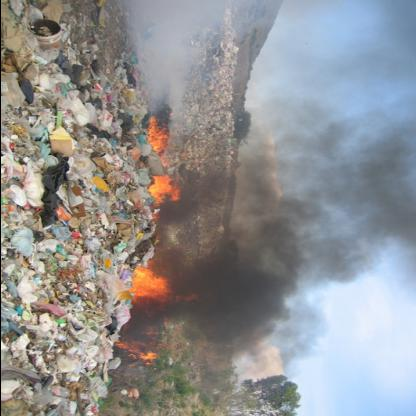Fire: (123, 271, 171, 301), (135, 119, 171, 155), (142, 174, 184, 202), (117, 349, 161, 360)
Smoke: (182, 106, 393, 350), (115, 0, 249, 100)
